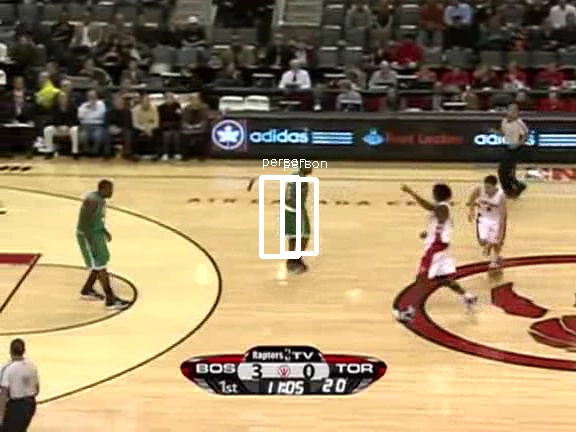person: (278, 168, 312, 249), (277, 168, 311, 249), (279, 168, 313, 249), (278, 167, 312, 248), (278, 169, 312, 250)
target_negative: (26, 62, 250, 348), (158, 265, 441, 369), (250, 250, 417, 358), (374, 305, 504, 417), (473, 162, 534, 207), (309, 391, 564, 394)
